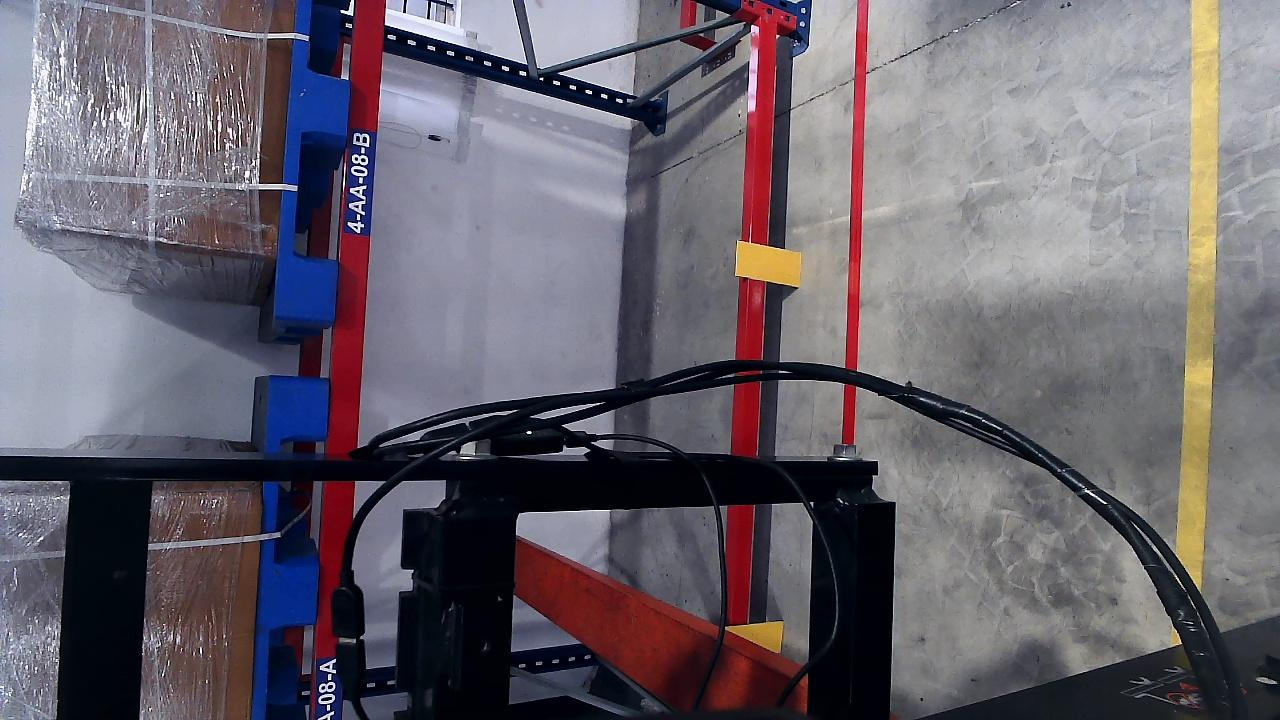h_rack: (325, 0, 384, 720), (723, 16, 780, 630)
orange_strip: (735, 241, 801, 287), (726, 621, 783, 652)
red_line: (843, 3, 868, 446)
small_pallet: (271, 0, 369, 323), (253, 375, 330, 720)
yellow_line: (1172, 1, 1221, 719)
